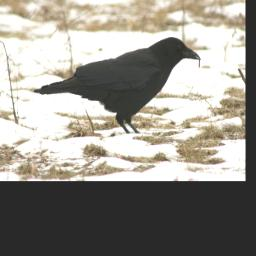Crow: (35, 31, 206, 136)
